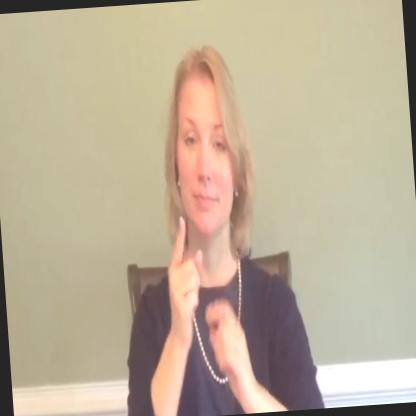NiceToMeetYou: (97, 36, 328, 416)
